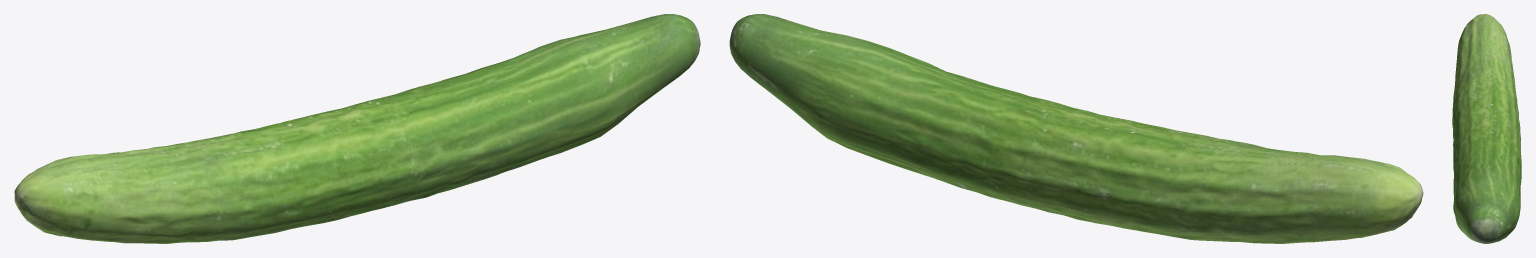
File: SM_Cucumber.fbx
The picture shows the model from 3 angles, left to right: view 1: azimuth 30°, elevation 25°; view 2: azimuth 150°, elevation 25°; view 3: azimuth 270°, elevation 25°; orthographic projection. The views are drawn at different scales.
Visible parts, largest first — view 1: CucumberPeel; view 2: CucumberPeel; view 3: CucumberPeel.
Part boxes in pixels (bbox=[...]): CucumberPeel: bbox=[14, 14, 700, 243]; CucumberPeel: bbox=[729, 14, 1423, 243]; CucumberPeel: bbox=[1452, 14, 1521, 243].
Size of what is drawn, in the model's own units: 33.14 by 4.69 by 5.48.
